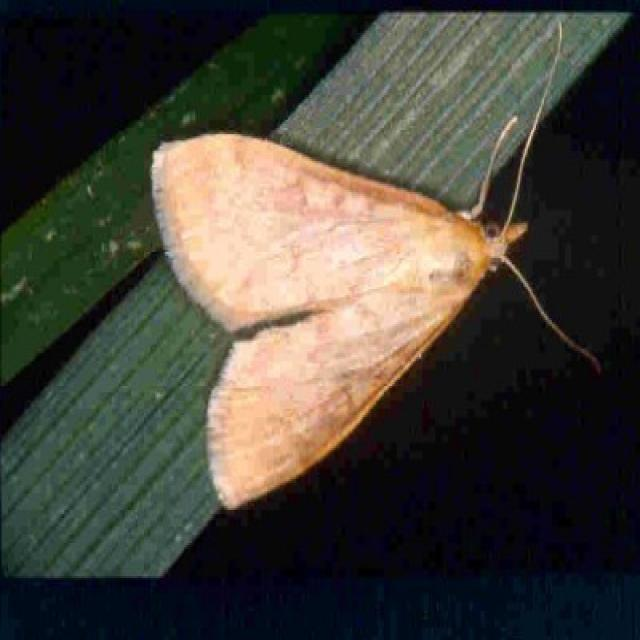cornborer-Adult-: (128, 103, 585, 526)
